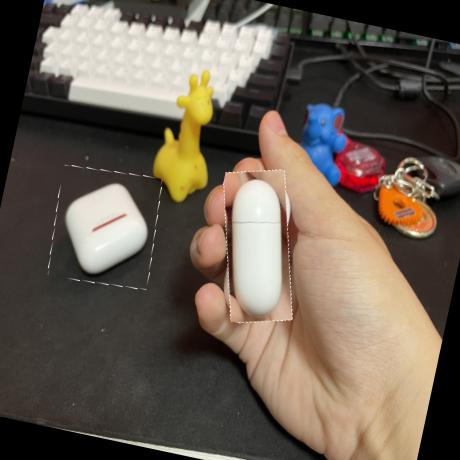airpod2: (42, 160, 166, 293)
airpod3: (203, 162, 312, 330)
